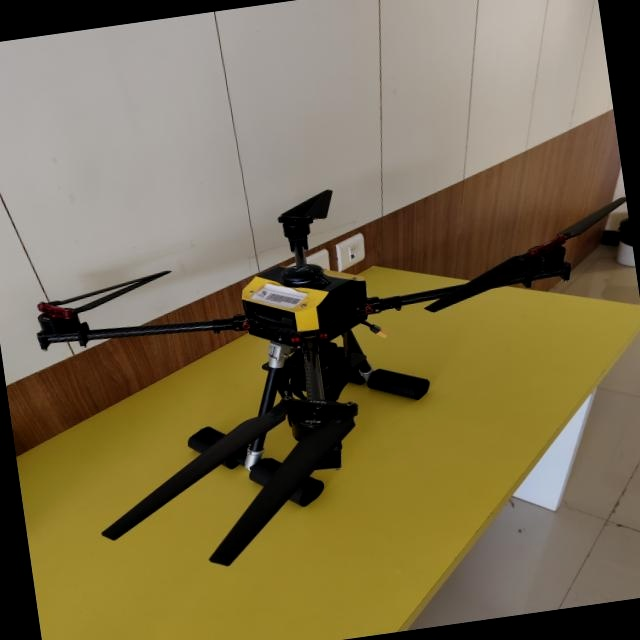quadcopter: (13, 142, 640, 592)
